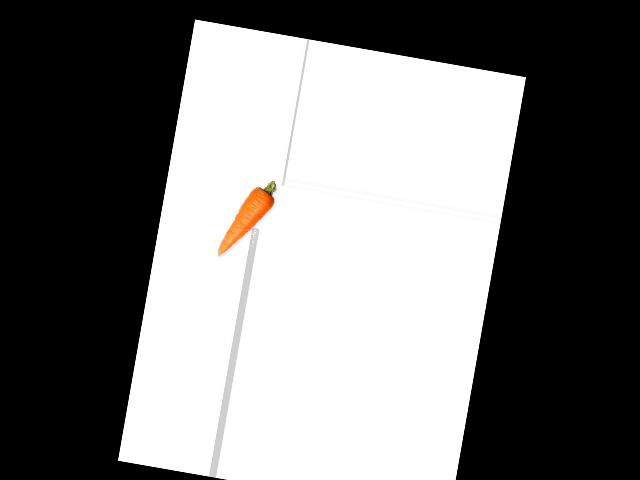carrot: (215, 173, 279, 264)
